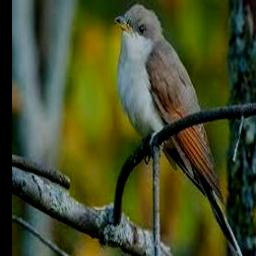Cuckoo: (115, 2, 255, 256)
